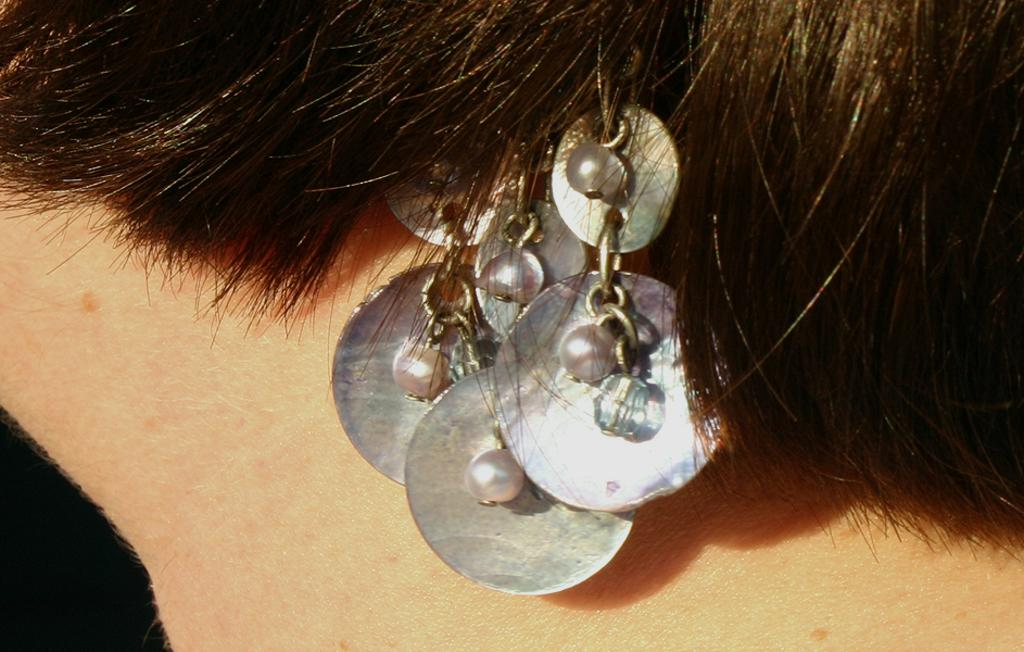earrings: (330, 41, 727, 594)
